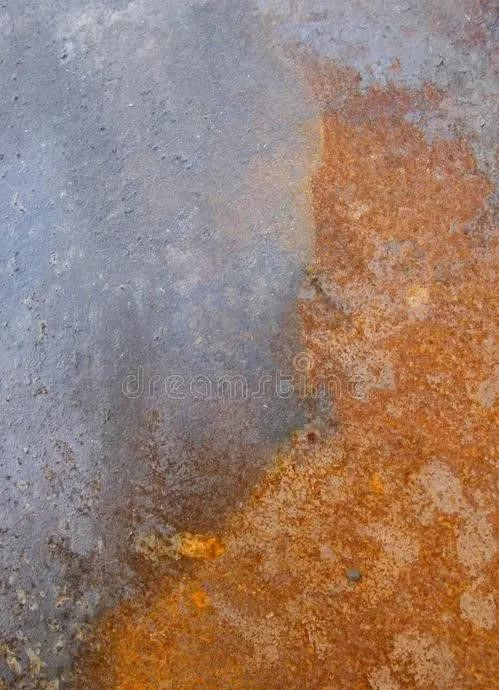Corrosion: (66, 52, 499, 690)
